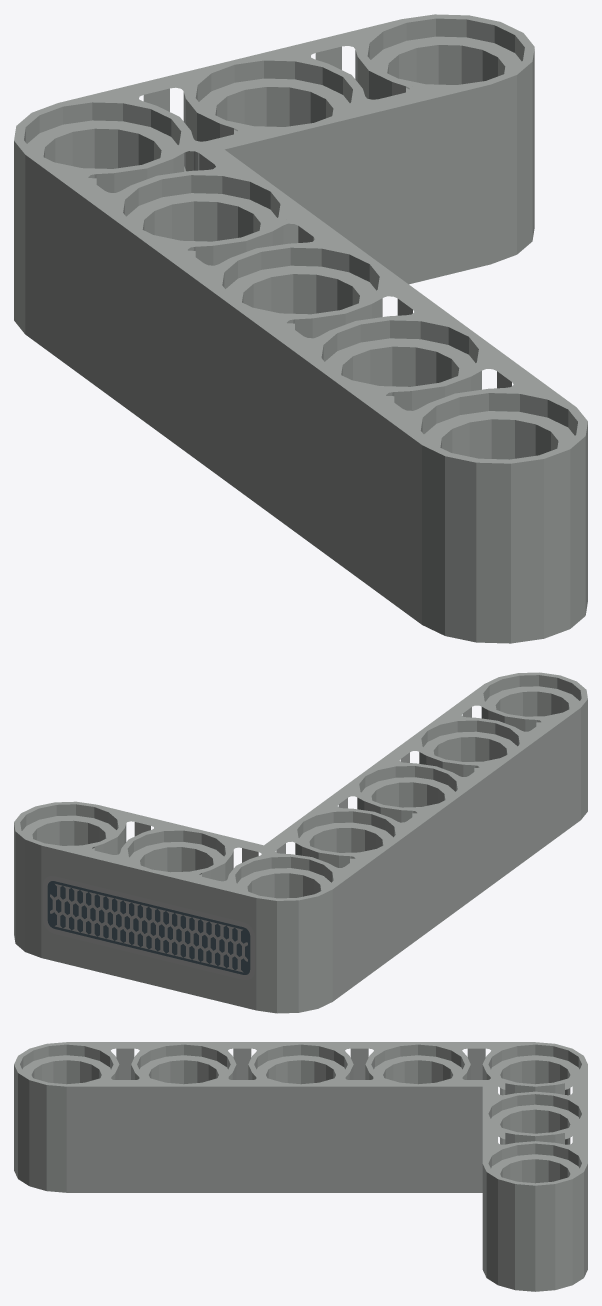
The picture shows the model from 3 angles, top to bottom: view 1: azimuth 30°, elevation 25°; view 2: azimuth 150°, elevation 25°; view 3: azimuth 270°, elevation 25°; orthographic projection. The views are drawn at different scales.
Visible parts, largest first — view 1: world; view 2: world; view 3: world.
Part boxes in pixels (<box>): world: <box>14,14,587,643</box>; world: <box>14,672,587,1013</box>; world: <box>14,1042,587,1291</box>.
Bounding box in the file's own units: 0.0232 × 0.008 × 0.0392.
